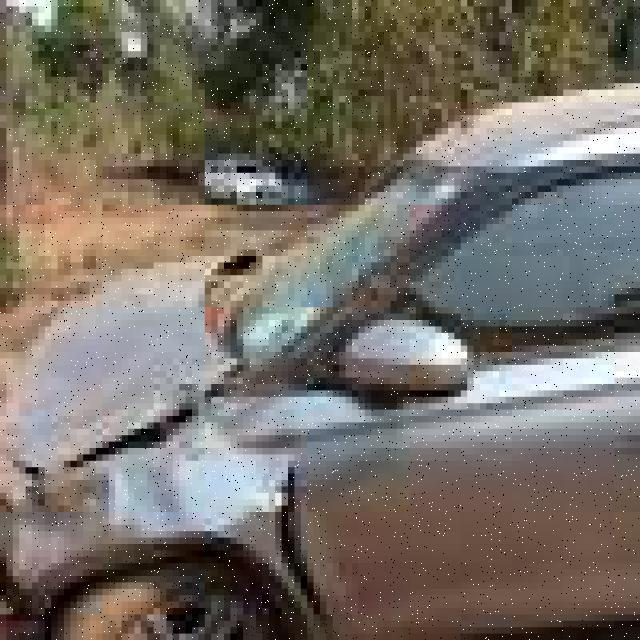bonnet-dent: (7, 230, 230, 454)
fender-dent: (0, 448, 301, 595)
